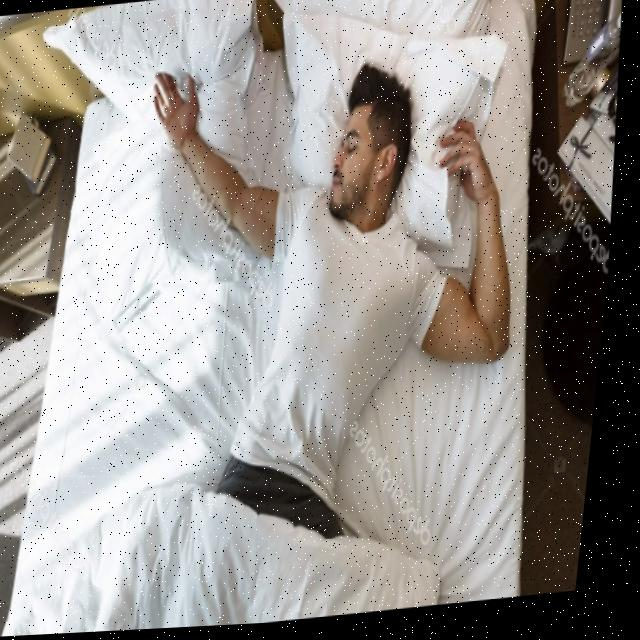sleeping-person: (101, 6, 564, 634)
